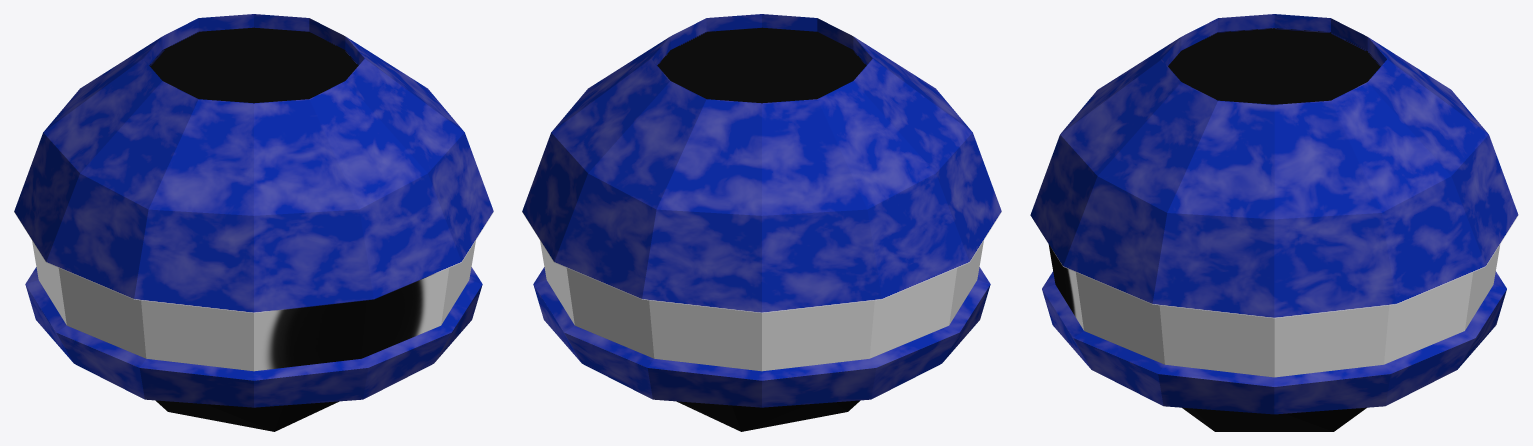
Rendered from Enemy.fbx.
The picture shows the model from 3 angles, left to right: view 1: azimuth 30°, elevation 25°; view 2: azimuth 150°, elevation 25°; view 3: azimuth 270°, elevation 25°; orthographic projection.
Parts seen in each view (by area): view 1: Bot_Player, Bot_Ball; view 2: Bot_Player, Bot_Ball; view 3: Bot_Player, Bot_Ball.
Boxes of the visible parts, x1,y1,x2,y2 form: Bot_Player: (14,14,493,407); Bot_Ball: (155,400,339,431); Bot_Player: (522,14,1001,407); Bot_Ball: (676,400,860,431); Bot_Player: (1030,14,1518,414); Bot_Ball: (1182,407,1366,431).
Bounding box in the file's own units: 254 × 209 × 254.
